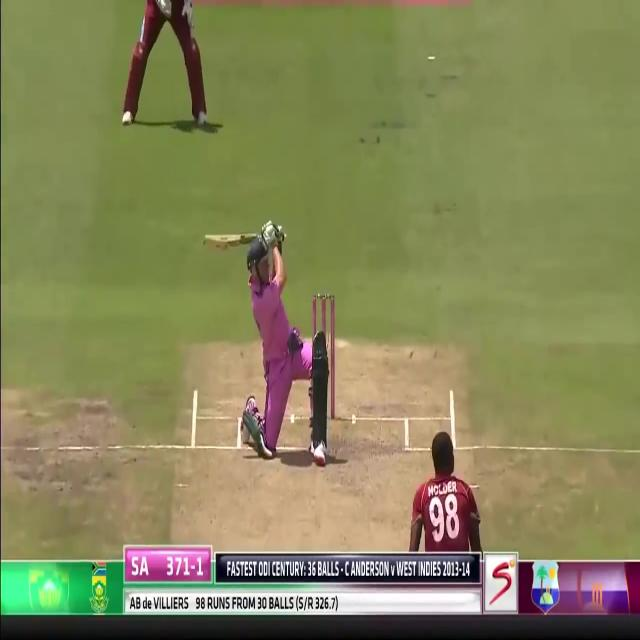Ball: (239, 216, 338, 468)
